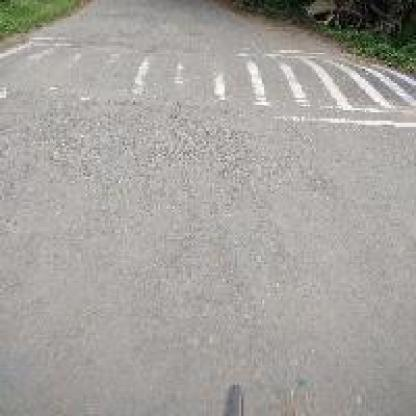Speed Bump: (0, 35, 412, 127)
